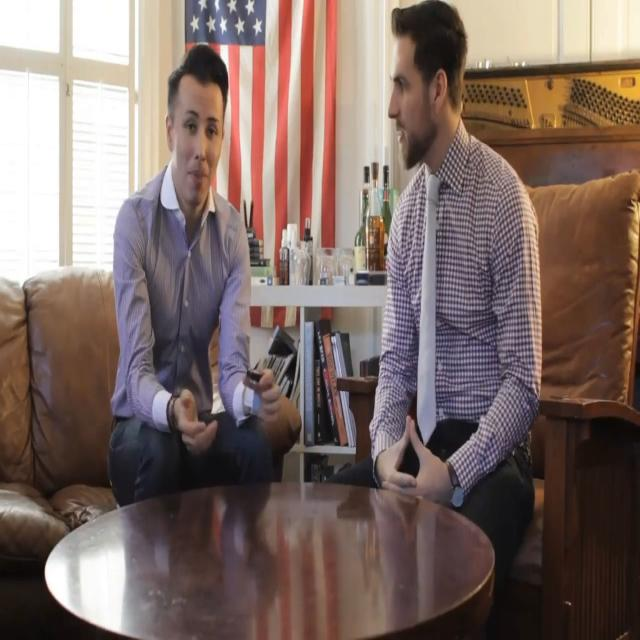Shirt: (368, 113, 542, 502), (109, 158, 256, 436)
